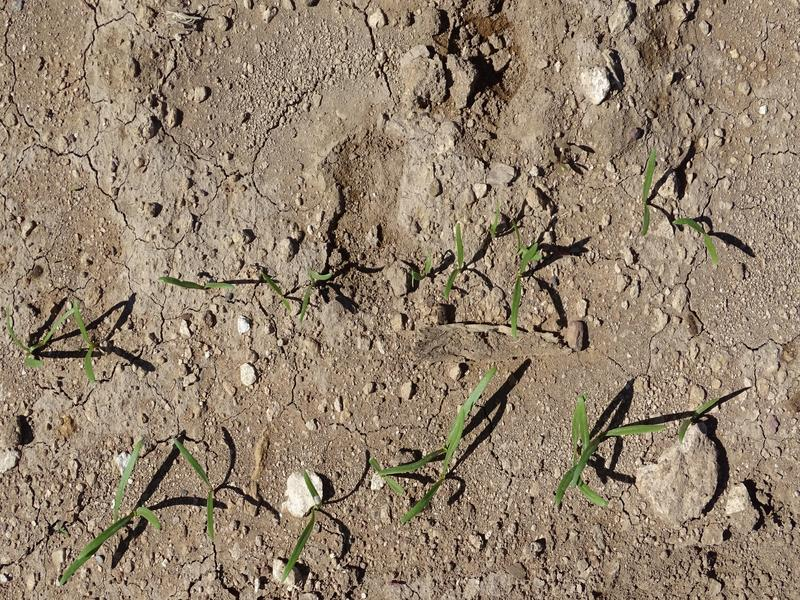Espinaca: (369, 368, 500, 521), (62, 435, 161, 584), (554, 391, 633, 509), (12, 304, 107, 380), (167, 435, 230, 537), (497, 241, 544, 335), (257, 264, 338, 317), (675, 382, 738, 441), (671, 214, 721, 268), (440, 227, 471, 304), (638, 149, 655, 242), (164, 275, 239, 294)
